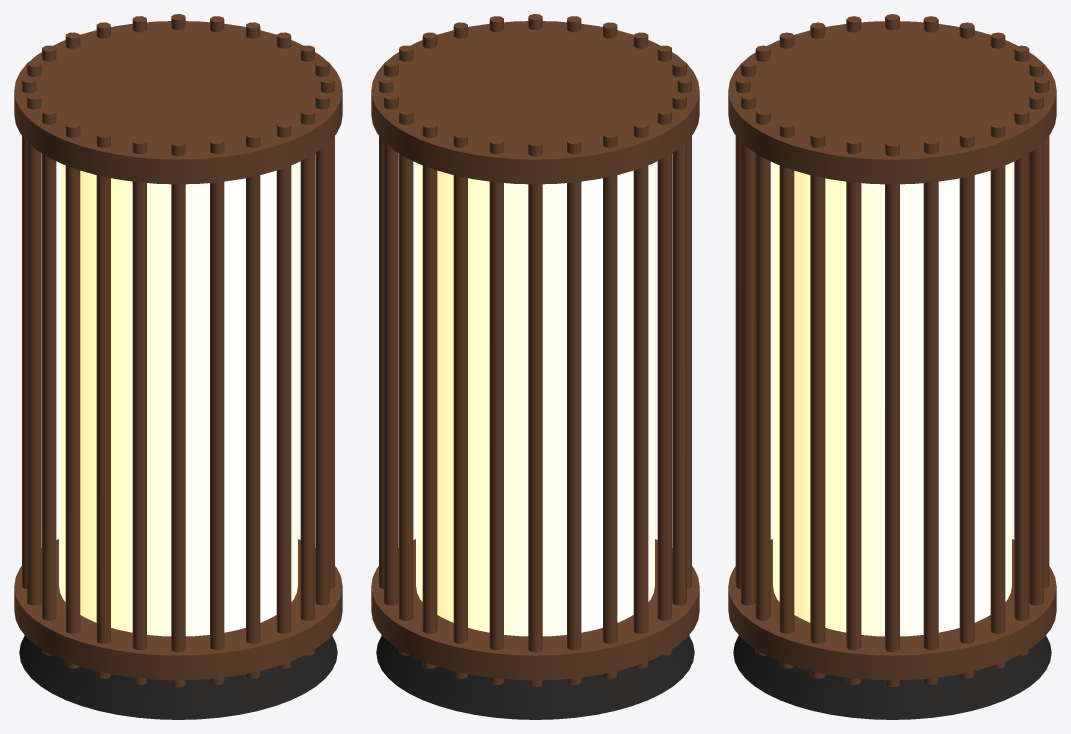
The model's file is komorebi.glb.
3 renders of one model, left to right at view 1: azimuth 30°, elevation 25°; view 2: azimuth 150°, elevation 25°; view 3: azimuth 270°, elevation 25°, orthographic.
Size of the model in its own units: 0.66 by 1.27 by 0.66.
